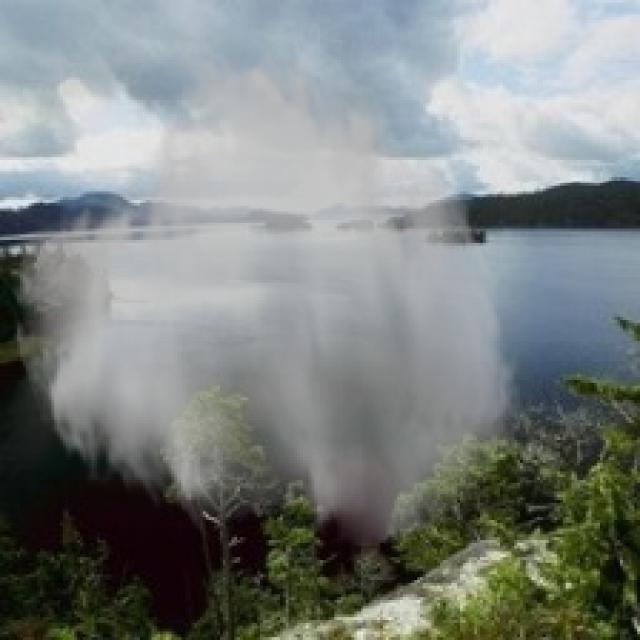Smoke: (8, 29, 526, 552)
